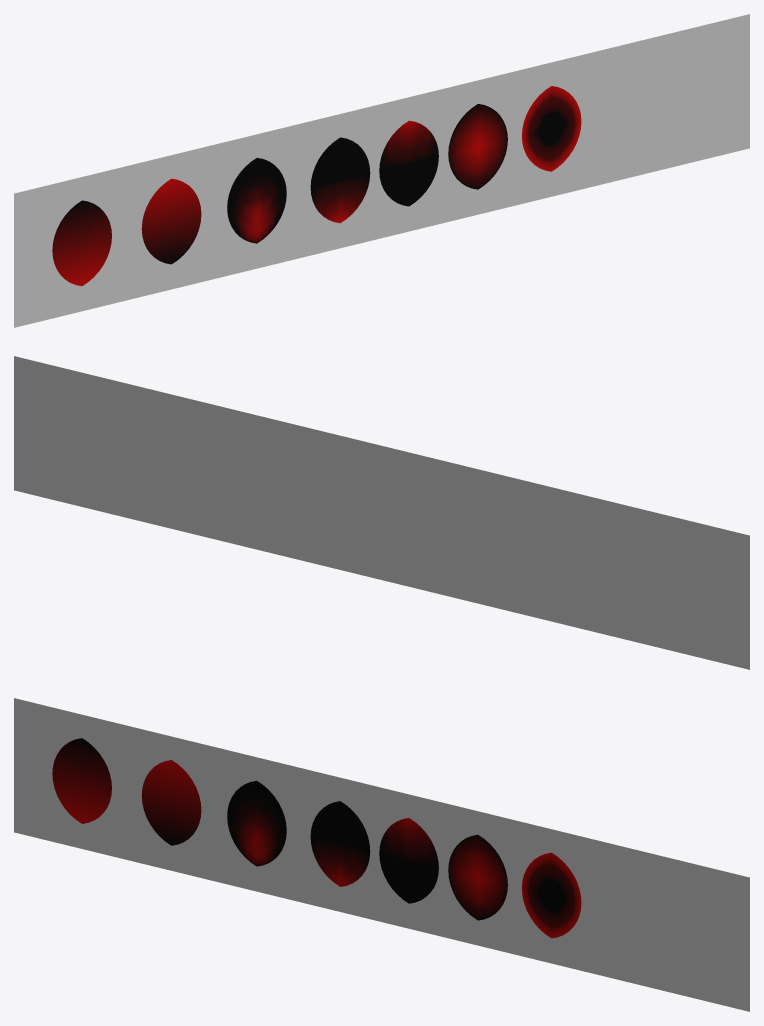
The model's file is petal_colors.fbx.
The picture shows the model from 3 angles, top to bottom: view 1: azimuth 30°, elevation 25°; view 2: azimuth 150°, elevation 25°; view 3: azimuth 330°, elevation 25°; orthographic projection.
Parts seen in each view (by area): view 1: color, color_tip, color_belly, color_center, color_rim, color_linear_inv, color_linear, color_root; view 2: color; view 3: color, color_belly, color_center, color_linear_inv, color_tip, color_linear, color_root, color_rim.
Boxes of the visible parts, x1,y1,x2,y2 form: color: [14, 14, 749, 327]; color_tip: [379, 120, 438, 206]; color_belly: [227, 158, 286, 243]; color_center: [448, 104, 507, 189]; color_rim: [522, 86, 581, 171]; color_linear_inv: [52, 200, 111, 286]; color_linear: [141, 178, 201, 264]; color_root: [310, 137, 370, 223]; color: [14, 356, 749, 669]; color: [14, 698, 749, 1011]; color_belly: [227, 781, 286, 866]; color_center: [448, 834, 507, 920]; color_linear_inv: [52, 738, 111, 823]; color_tip: [379, 818, 438, 903]; color_linear: [141, 760, 201, 845]; color_root: [310, 801, 370, 886]; color_rim: [522, 852, 581, 938].
Bounding box in the file's own units: 57.47 × 10.03 × 1.53e-05.
